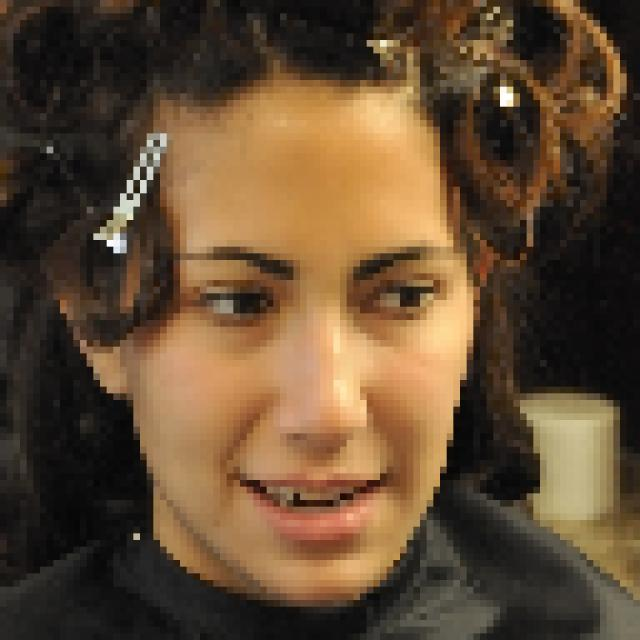happy: (97, 49, 510, 616)
